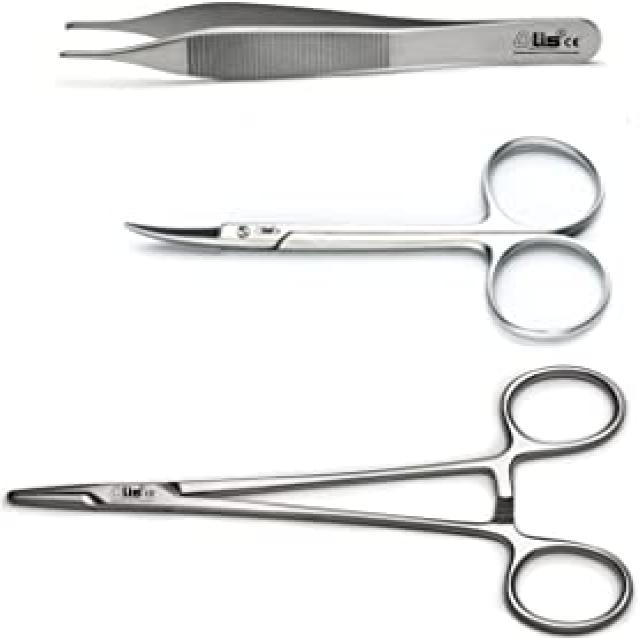B3: (2, 370, 633, 640), (46, 116, 640, 356)
